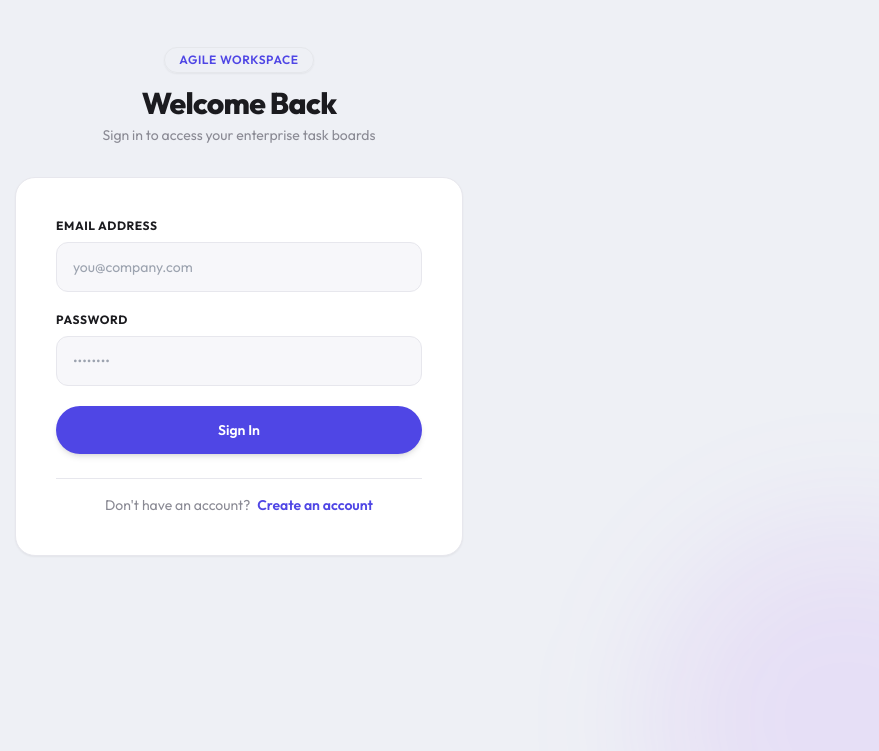
Test case: LoginPage Component Tests › displays validation error if email or password is empty on submit
The image size is (879, 751).
Click the button "Sign In".
click(239, 430)  # box 56,406 -> 422,454
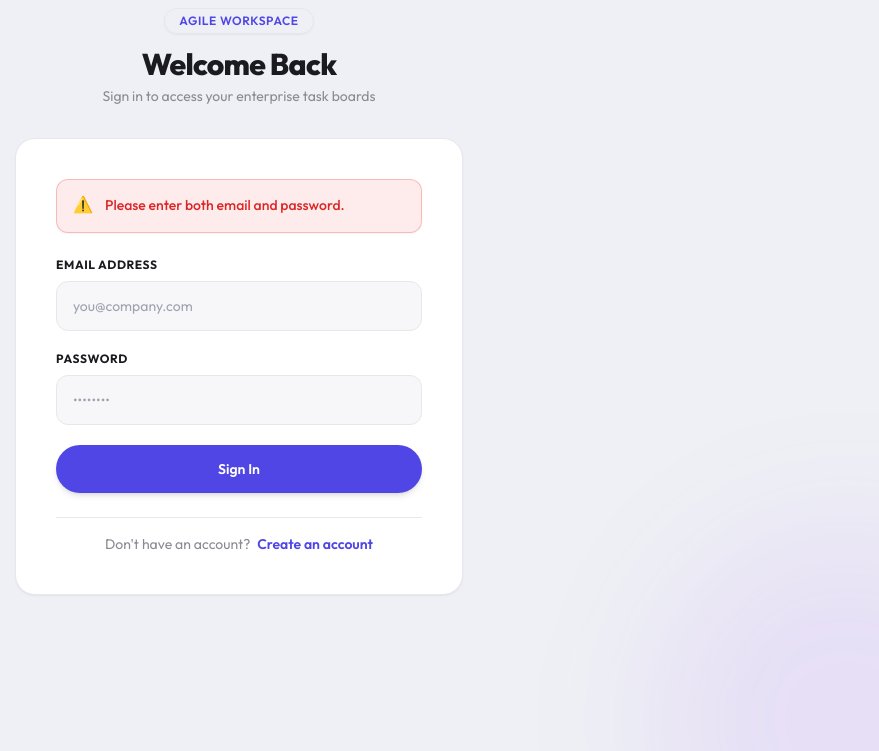
Check: the text "Please enter both email and password." is shown, box 105,196 -> 345,216
